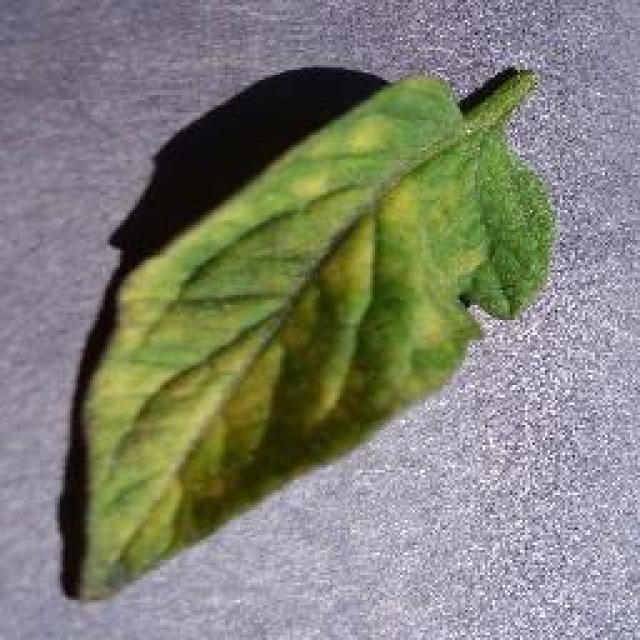Tomato___Leaf_Mold: (82, 70, 552, 598)
